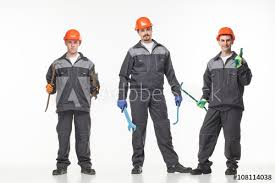Person_wearing_helmet: (211, 23, 240, 44), (62, 24, 86, 45), (133, 15, 154, 33)
